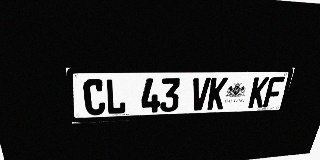3: (160, 78, 180, 112)
4: (141, 78, 161, 113)
C: (83, 79, 106, 116)
F: (263, 77, 285, 107)
K: (207, 77, 228, 110), (248, 77, 270, 108)
L: (105, 79, 126, 115)
V: (190, 78, 211, 111)
